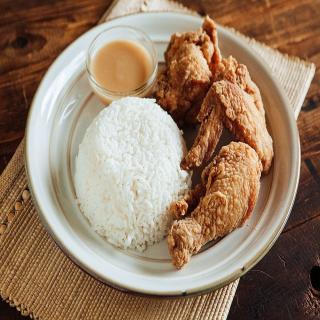carbs: (77, 98, 185, 244)
fried_chicken_rice: (45, 13, 283, 272)
meat: (187, 110, 260, 226), (162, 26, 223, 112), (168, 222, 229, 257), (225, 58, 262, 113)
